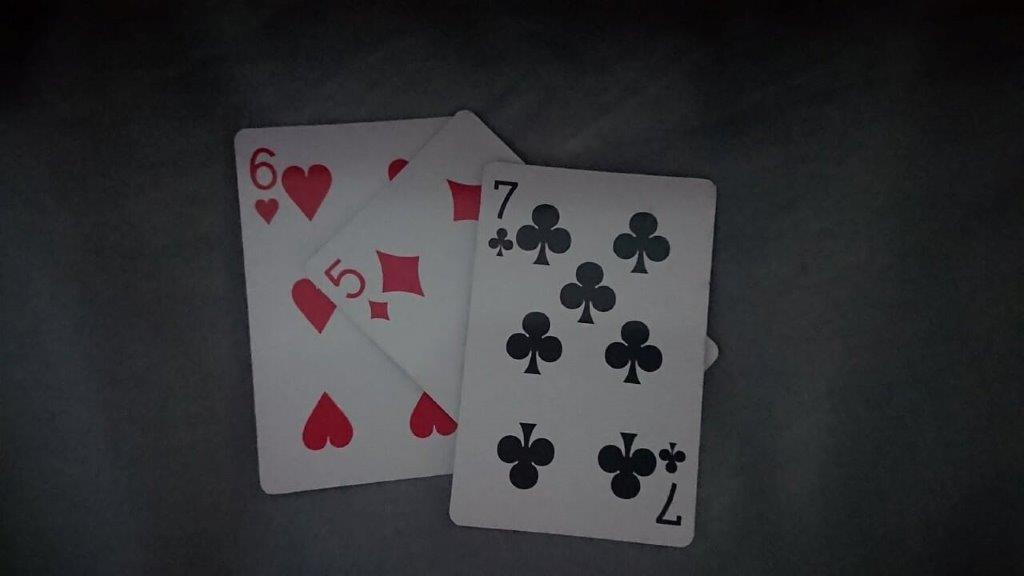5D: (320, 250, 394, 331)
6H: (242, 134, 290, 229)
7C: (482, 170, 529, 262)
